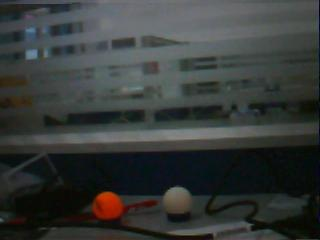oball: (92, 191, 122, 220)
